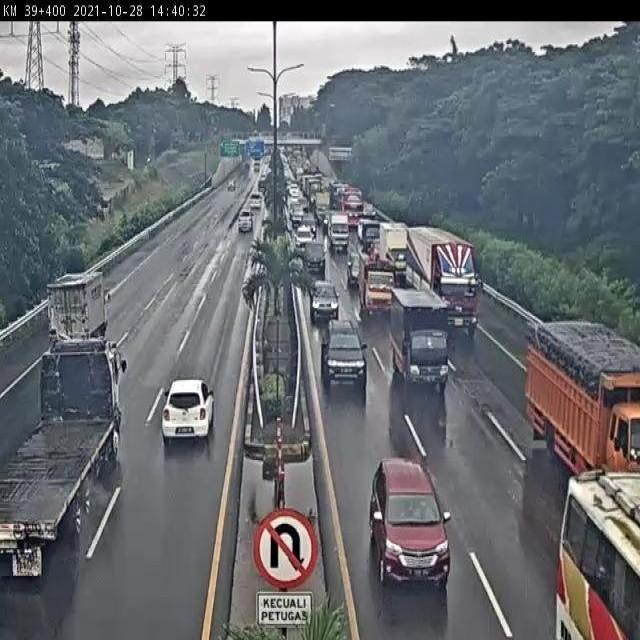big truck: (0, 344, 127, 575)
car: (368, 460, 451, 587), (160, 377, 216, 439), (321, 320, 368, 388), (309, 281, 341, 320), (345, 253, 377, 290), (302, 242, 325, 274)
small truck: (46, 270, 108, 350)
truck-l-: (523, 324, 640, 469), (405, 225, 479, 332)
truck-m-: (391, 293, 447, 388), (358, 261, 390, 315), (378, 220, 407, 277)
